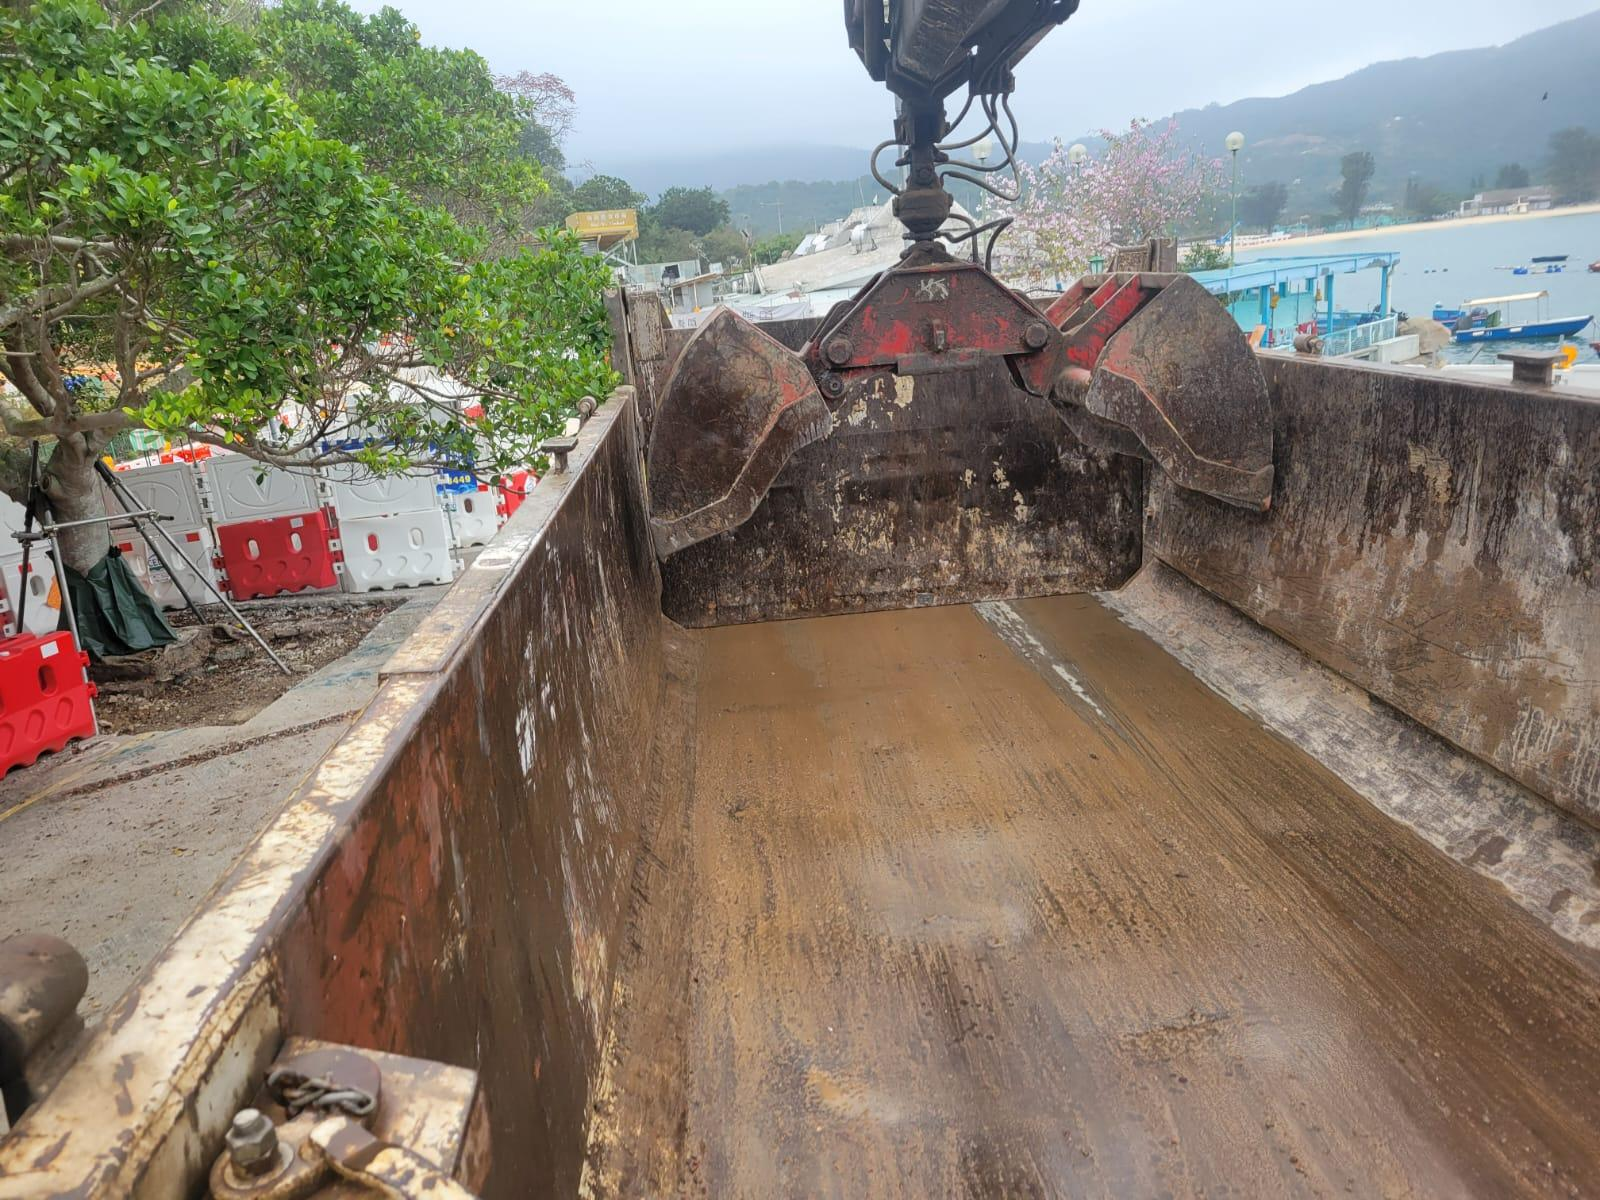nothing: (670, 594, 1596, 1200)
